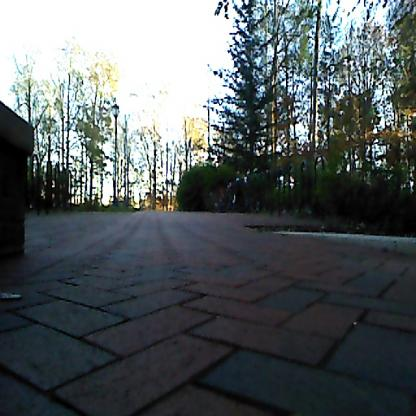Sidewalk: (0, 211, 416, 416)
